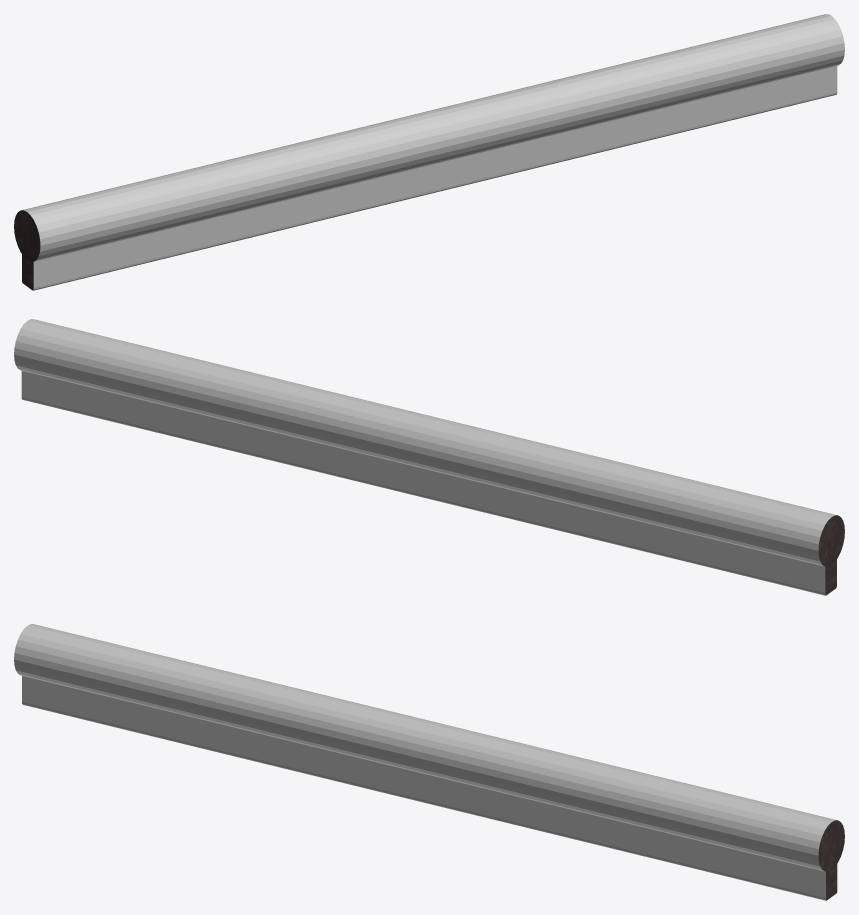
File: SM_Roof_Foundation_5.FBX
3 renders of one model, top to bottom at view 1: azimuth 30°, elevation 25°; view 2: azimuth 150°, elevation 25°; view 3: azimuth 330°, elevation 25°, orthographic.
Parts seen in each view (by area): view 1: SM_Roof_Foundation_5; view 2: SM_Roof_Foundation_5; view 3: SM_Roof_Foundation_5.
Part boxes in pixels (box(x1,y1,x2,y2)): SM_Roof_Foundation_5: box(14, 14, 844, 290); SM_Roof_Foundation_5: box(14, 319, 844, 595); SM_Roof_Foundation_5: box(14, 624, 844, 900).
Size of the model in its own units: 885 by 78.88 by 50.49.
